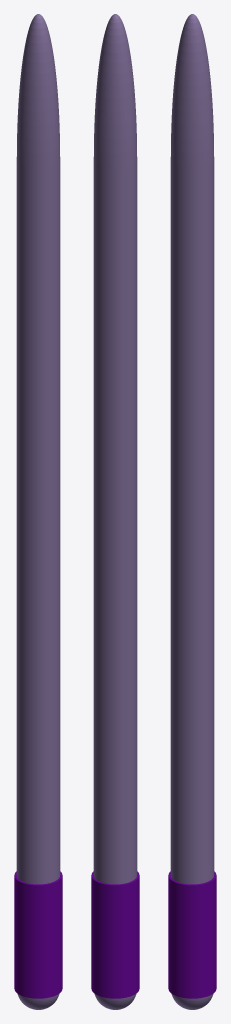
The model's file is mechhhh111.fbx.
The picture shows the model from 3 angles, left to right: view 1: azimuth 90°, elevation 25°; view 2: azimuth 150°, elevation 25°; view 3: azimuth 270°, elevation 25°; orthographic projection.
Visible parts, largest first — view 1: Sphere.004; view 2: Sphere.004; view 3: Sphere.004.
Boxes of the visible parts, left/top/right/bottom form: Sphere.004: left=14, top=14, right=62, bottom=1009; Sphere.004: left=91, top=14, right=139, bottom=1009; Sphere.004: left=168, top=14, right=216, bottom=1009.
Size of the model in its own units: 34.57 by 789 by 34.57.
